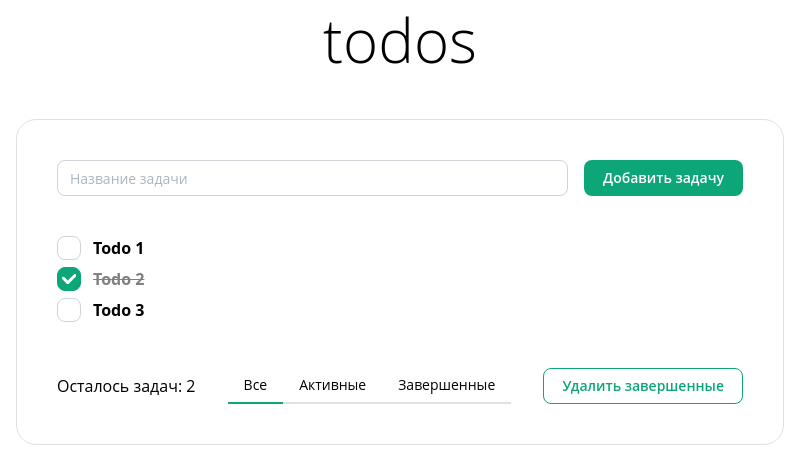
Test: Should remove a todo
expect the text "Todo 2" is shown: met, box [93, 268, 144, 290]
Click the button "Удалить завершенные": (643, 386) [543, 368, 743, 404]
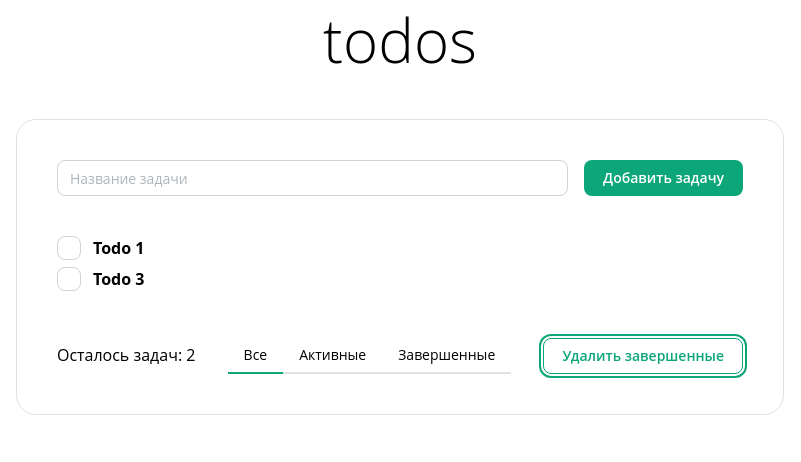
expect the text "Todo 2" is gone: met
